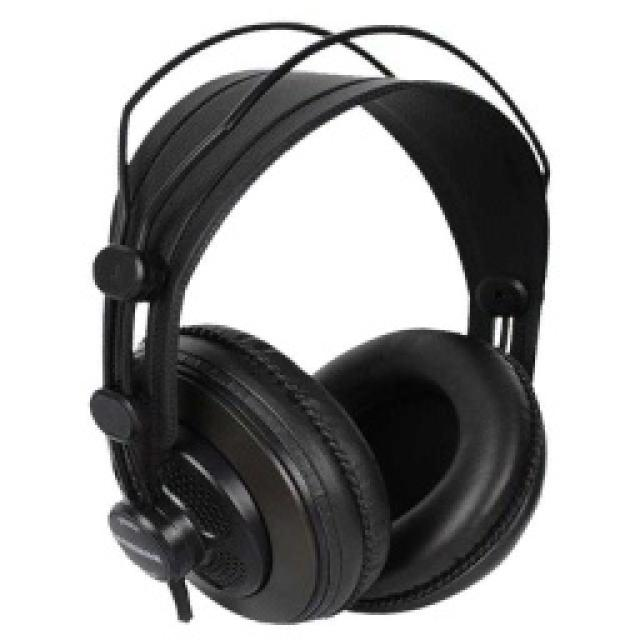headphones: (88, 18, 550, 622)
